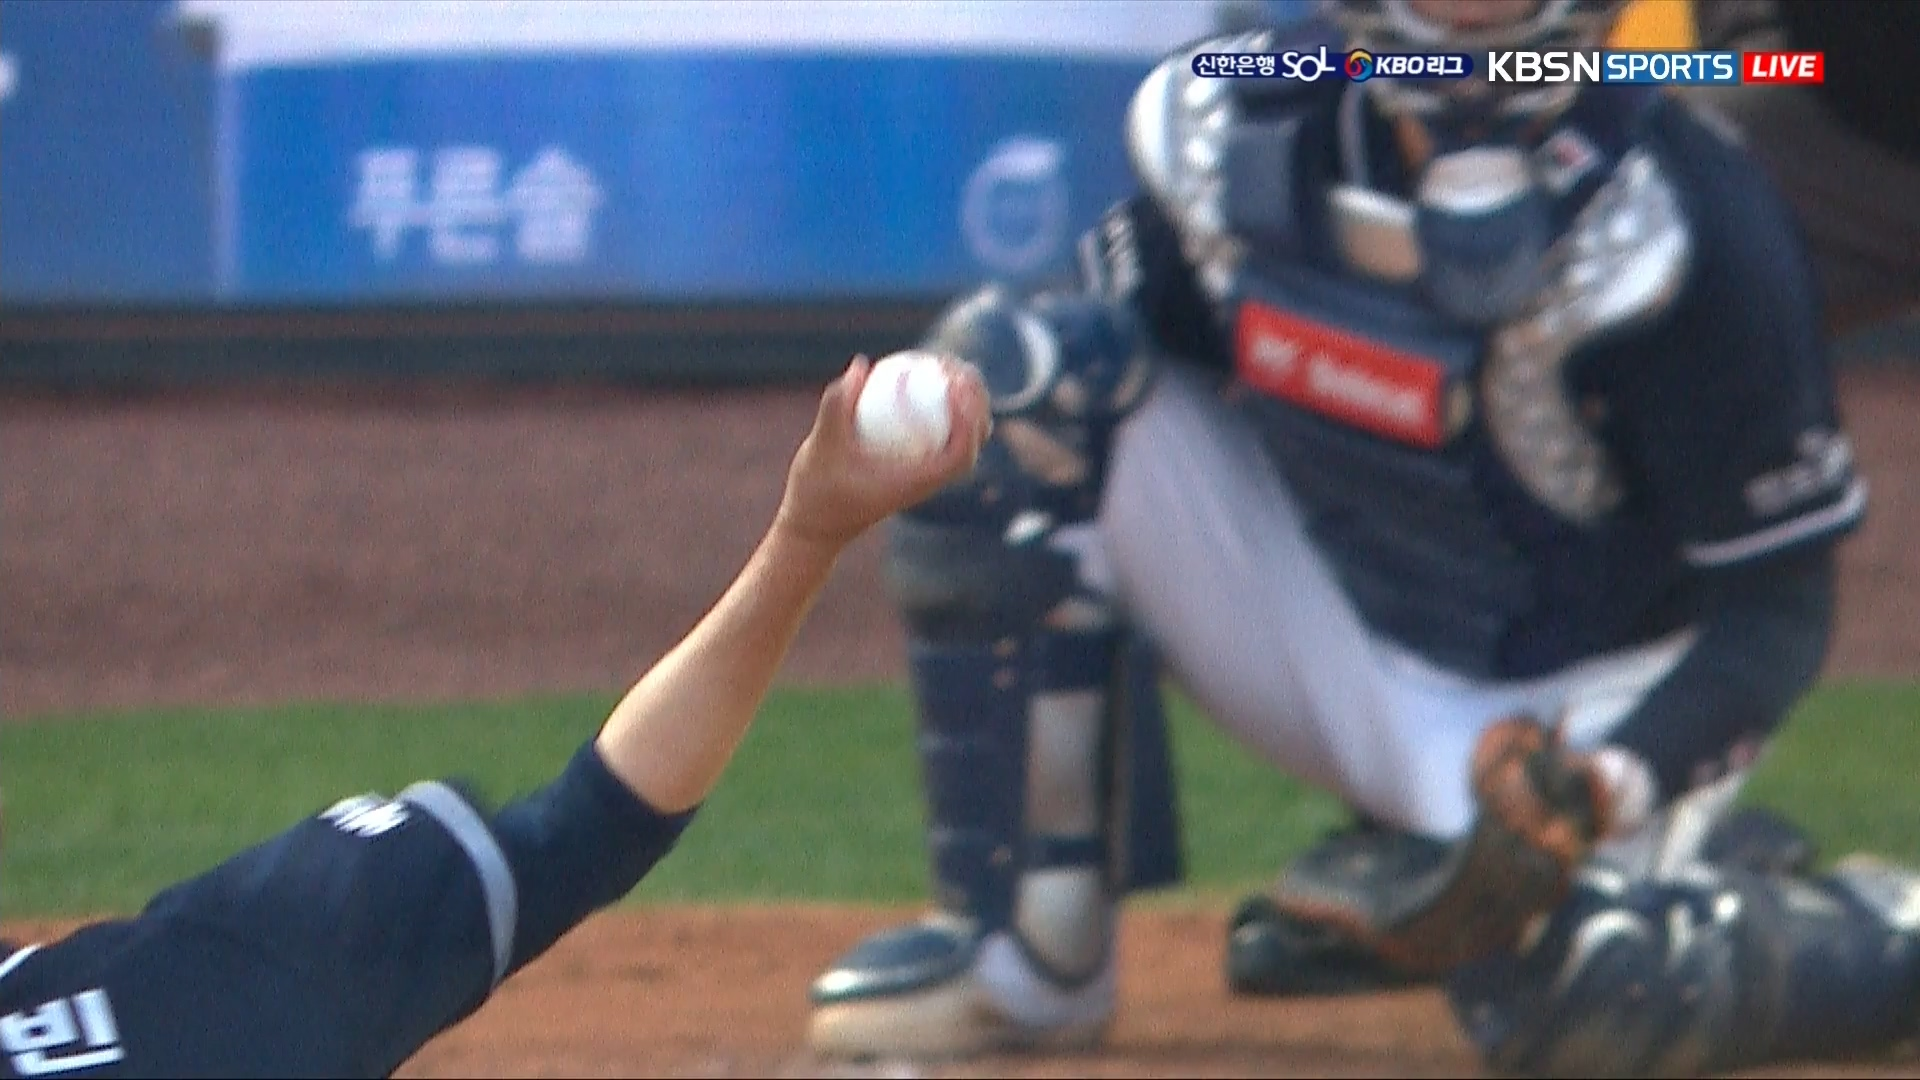zoomin_hand: (535, 322, 1010, 936)
